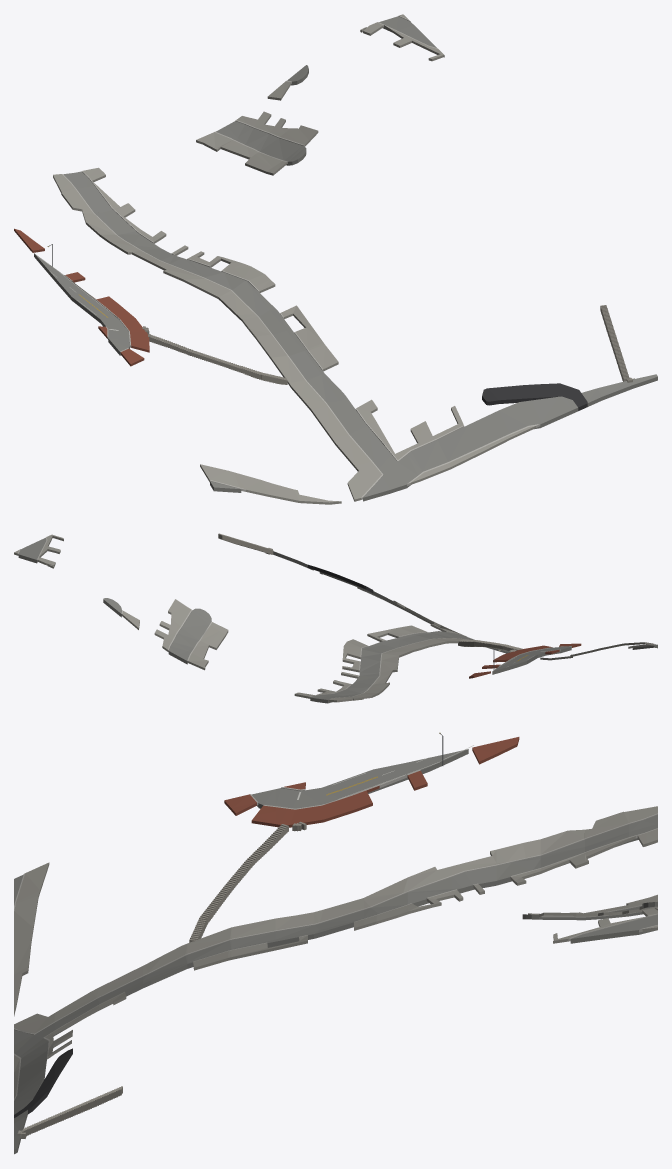
3 renders of one model, top to bottom at view 1: azimuth 30°, elevation 25°; view 2: azimuth 150°, elevation 25°; view 3: azimuth 270°, elevation 25°, orthographic. The views are drawn at different scales.
Size of the model in its own units: 148 by 72.25 by 146.
